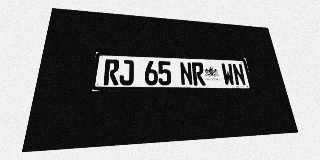5: (158, 61, 172, 85)
6: (144, 61, 158, 85)
J: (119, 60, 134, 85)
N: (179, 62, 193, 85), (232, 64, 246, 86)
R: (103, 59, 119, 85), (191, 62, 206, 85)
W: (221, 63, 235, 86)
